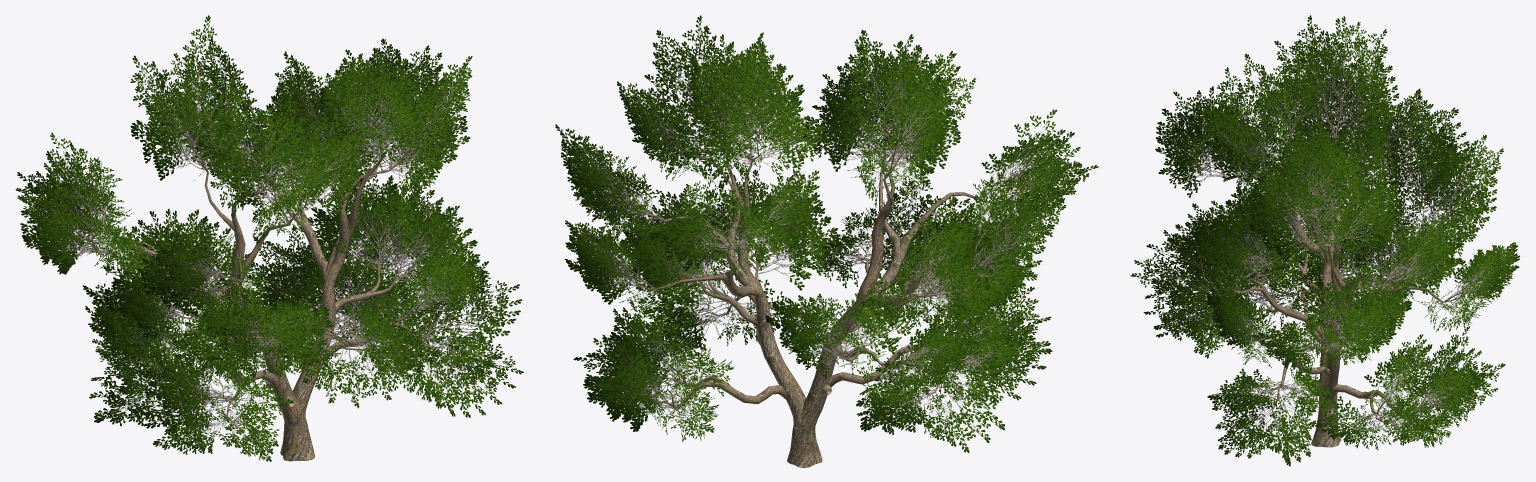
The model's file is Oakten.obj.
3 views of the same model, side by side, from view 1: azimuth 30°, elevation 25°; view 2: azimuth 150°, elevation 25°; view 3: azimuth 270°, elevation 25° (orthographic). The views are drawn at different scales.
Visible parts, largest first — view 1: oak leaf, mossybark02; view 2: oak leaf, mossybark02; view 3: oak leaf, mossybark02.
Boxes of the visible parts, box(x1,y1,x2,y2) form: oak leaf: box(15, 15, 523, 461); mossybark02: box(72, 77, 460, 461); oak leaf: box(555, 15, 1098, 452); mossybark02: box(608, 93, 1030, 467); oak leaf: box(1130, 15, 1519, 466); mossybark02: box(1188, 65, 1474, 447).
Size of the model in its own units: 1039 by 965 by 877.
3 materials, 3 textured.
